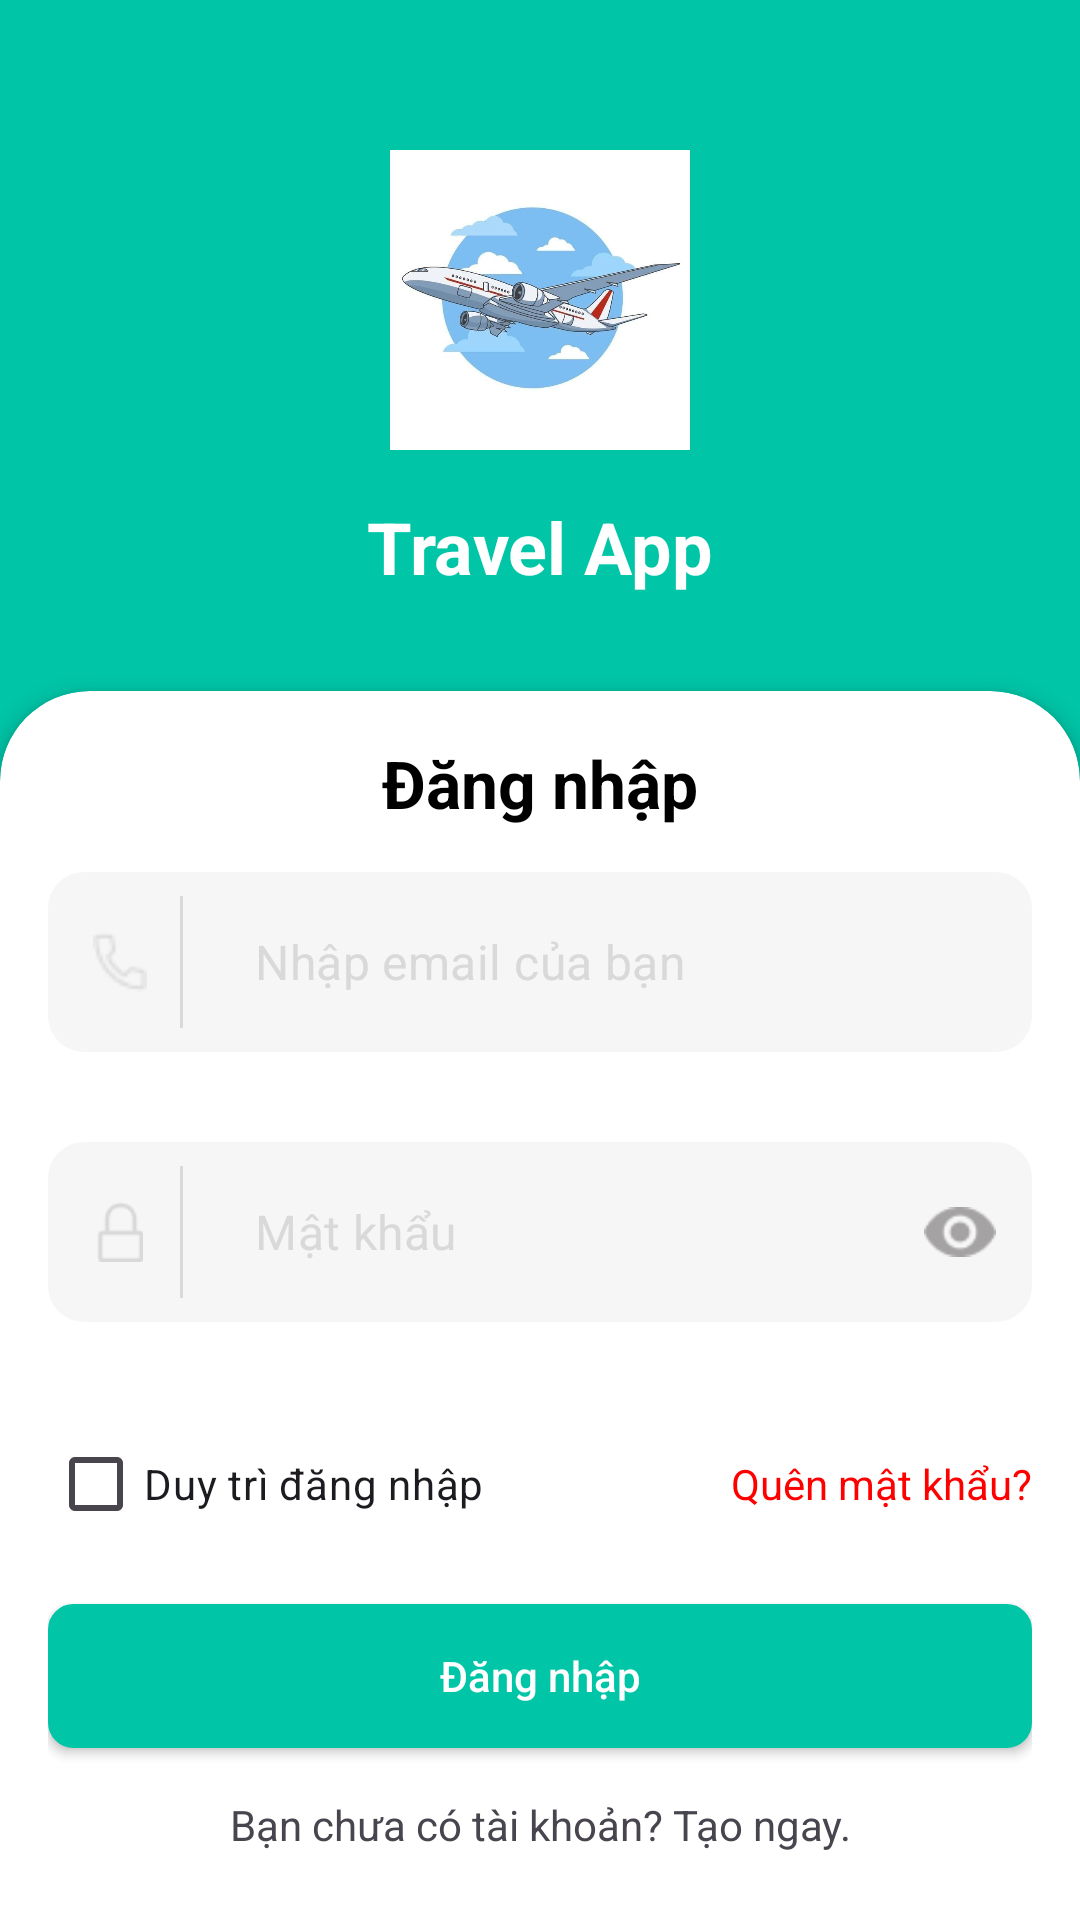

Icon click points for this 1080px x 1920px phone screenshot, format (x=x, y=y):
eye: (x=960, y=1232)
fly: (x=540, y=300)
